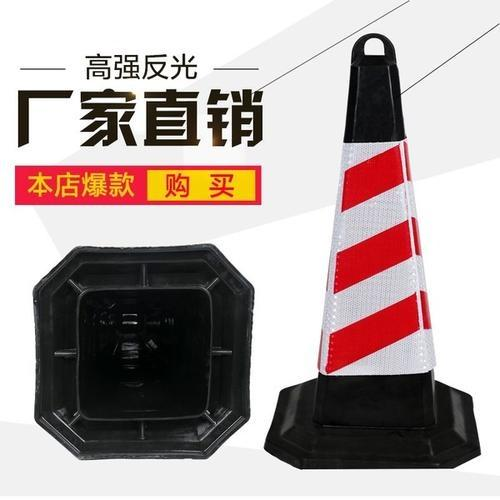cone_barrel: (273, 36, 471, 467)
